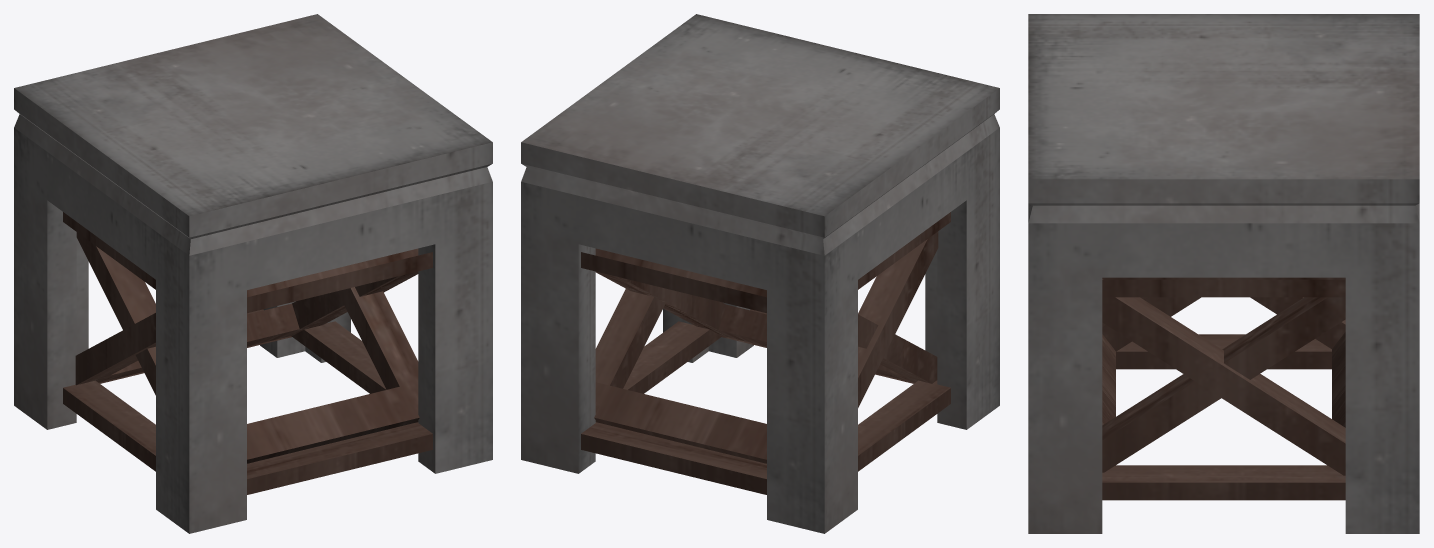
The model's file is Floor_City_3.fbx.
The picture shows the model from 3 angles, left to right: view 1: azimuth 30°, elevation 25°; view 2: azimuth 150°, elevation 25°; view 3: azimuth 270°, elevation 25°; orthographic projection. The views are drawn at different scales.
Visible parts, largest first — view 1: Cube.161; view 2: Cube.161; view 3: Cube.161.
Part boxes in pixels (left/top/right/bottom): Cube.161: left=14, top=14, right=492, bottom=533; Cube.161: left=521, top=14, right=999, bottom=533; Cube.161: left=1028, top=14, right=1419, bottom=533.
Bounding box in the file's own units: 1 × 1 × 1.
